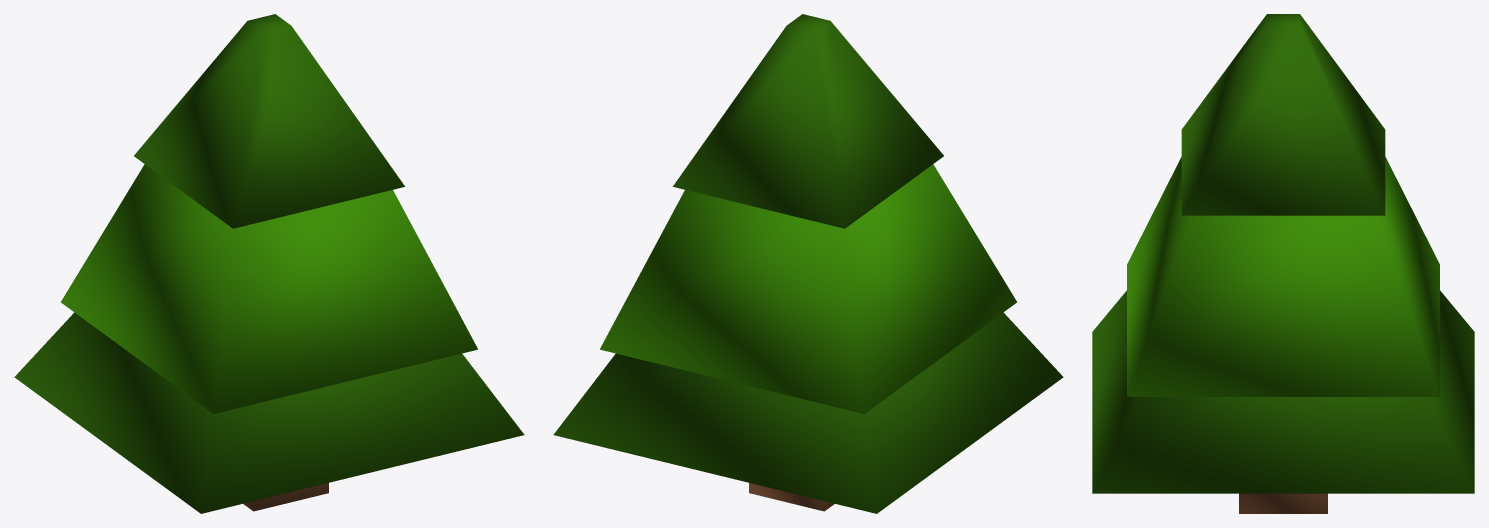
The model's file is pine.dae.
3 renders of one model, left to right at view 1: azimuth 30°, elevation 25°; view 2: azimuth 150°, elevation 25°; view 3: azimuth 270°, elevation 25°, orthographic. The views are drawn at different scales.
Visible parts, largest first — view 1: Cube.002, Cube.001, Cube.003, Cube; view 2: Cube.002, Cube.001, Cube.003, Cube; view 3: Cube.002, Cube.001, Cube.003, Cube.
Part boxes in pixels (<box>): Cube.002: <box>61,164,477,413</box>; Cube.001: <box>14,312,524,513</box>; Cube.003: <box>134,14,404,228</box>; Cube: <box>243,483,328,511</box>; Cube.002: <box>600,164,1016,413</box>; Cube.001: <box>553,312,1063,513</box>; Cube.003: <box>673,14,943,228</box>; Cube: <box>749,483,834,511</box>; Cube.002: <box>1127,157,1439,396</box>; Cube.001: <box>1092,290,1474,493</box>; Cube.003: <box>1181,14,1385,215</box>; Cube: <box>1239,493,1327,513</box>.
Size of the model in its own units: 1.07 by 1.07 by 1.46.
